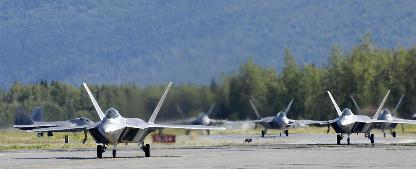F18: (25, 82, 226, 157), (285, 89, 415, 143), (224, 97, 324, 136), (1, 106, 95, 136), (350, 94, 414, 137), (156, 101, 228, 135)
